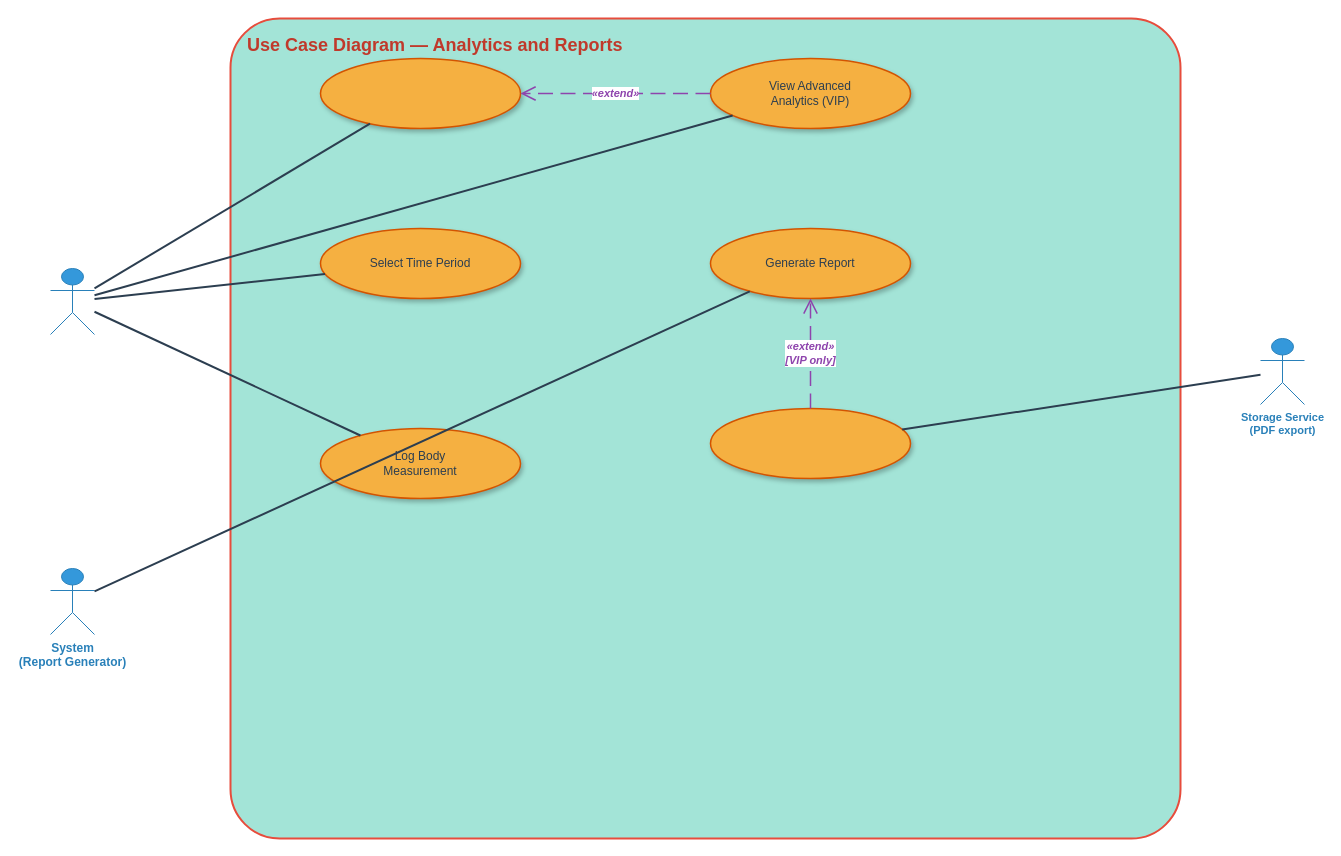
Some shapes in this 1341 by 856 pixel diagram are drawn without their labels. Here are the shapes that lost their labels. From the top down, the centre of each, then its label:
At [421,94]: "View Weekly Summary (Free)".
At [72,301]: "Authenticated User (VIP badge)".
At [811,444]: "Export PDF (VIP)".
